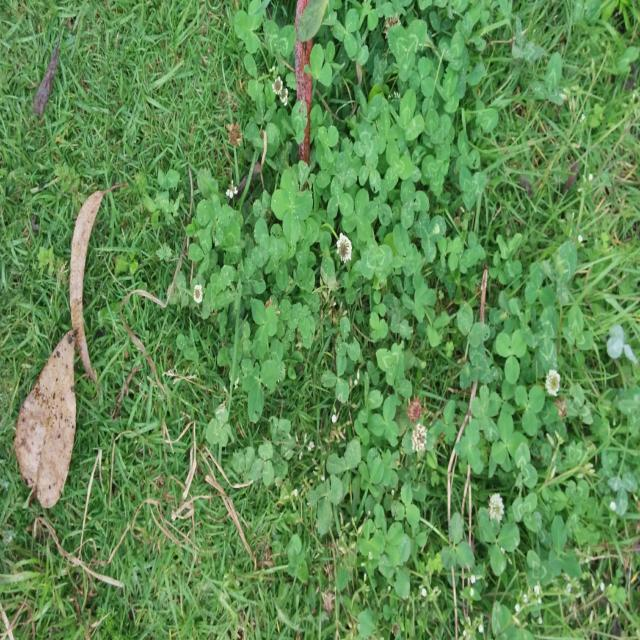Four Leaf Clover: (271, 170, 312, 246)
